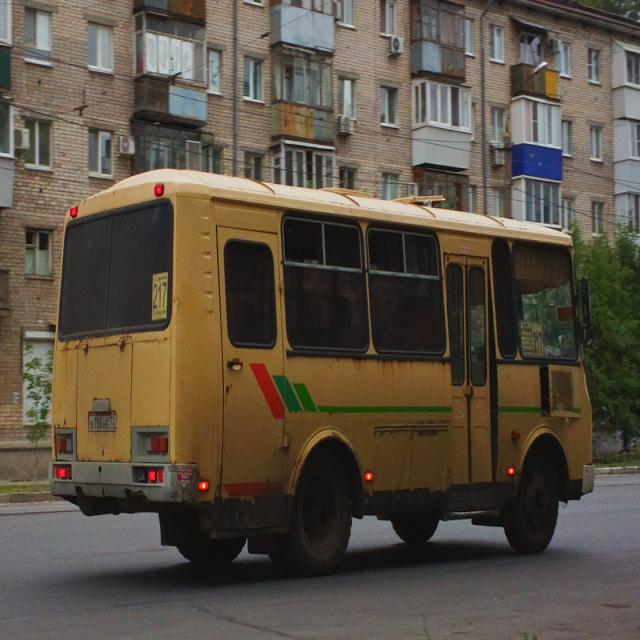number-of-bus: (154, 282, 168, 310)
